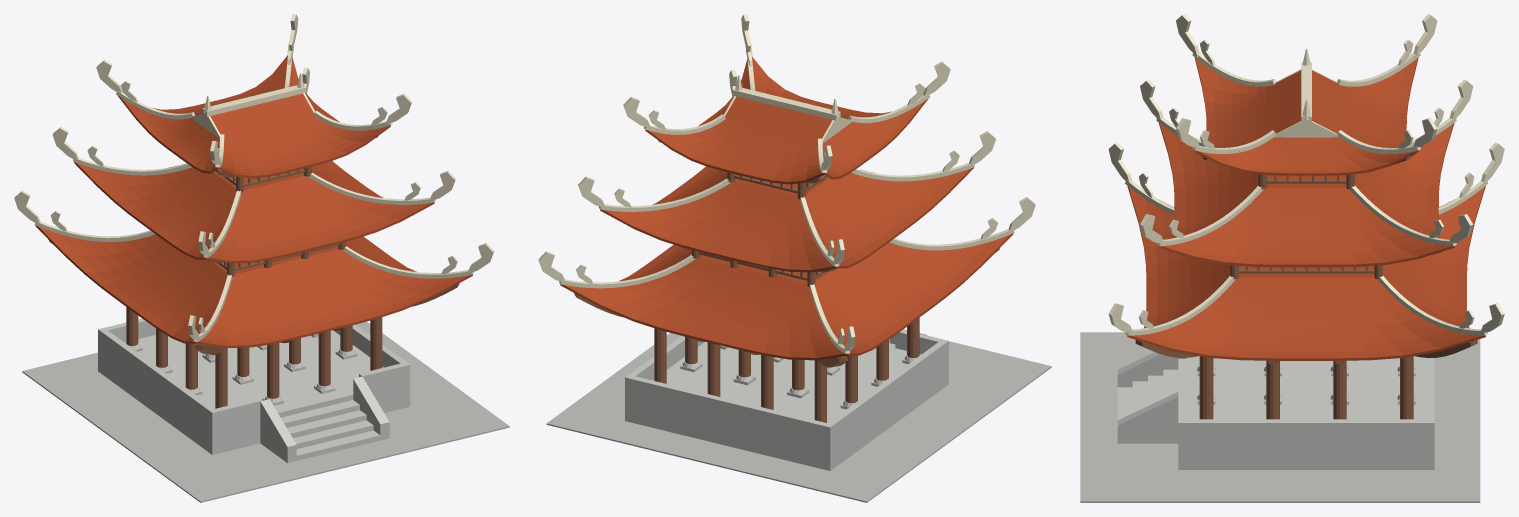
Rendered from lau_trong.glb.
3 renders of one model, left to right at view 1: azimuth 30°, elevation 25°; view 2: azimuth 150°, elevation 25°; view 3: azimuth 270°, elevation 25°, orthographic. The views are drawn at different scales.
Parts seen in each view (by area): view 1: Tang1_Mai, San, Tang2_Mai, Nen_Da, Tang3_Mai, Tuong_Thap, Tang1_Cot, Bac_Thang, Ma_Bac_Thang, Tang3_Mai_Hoi, Tang1_Suon_Mai, Tang2_Suon_Mai (+6 smaller); view 2: Tang1_Mai, Tang2_Mai, San, Nen_Da, Tang3_Mai, Tuong_Thap, Tang1_Cot, Tang3_Mai_Hoi, Tang1_Suon_Mai, Tang2_Suon_Mai, Tang3_Mui_Dao, Tang2_Mui_Dao (+4 smaller); view 3: Tang1_Mai, San, Tang2_Mai, Nen_Da, Tang3_Mai, Tuong_Thap, Ma_Bac_Thang, Tang1_Cot, Tang3_Mai_Hoi, Tang1_Suon_Mai, Tang3_Mui_Dao, Tang1_Mui_Dao (+9 smaller).
Part boxes in pixels (x1,y1,x2,y2): Tang1_Mai: (35,226,472,348); San: (22,321,509,502); Tang2_Mai: (74,161,434,263); Nen_Da: (98,330,410,454); Tang3_Mai: (118,55,390,178); Tuong_Thap: (98,318,410,428); Tang1_Cot: (126,307,382,408); Bac_Thang: (281,400,380,460); Ma_Bac_Thang: (260,376,389,463); Tang3_Mai_Hoi: (210,93,313,136); Tang1_Suon_Mai: (34,221,473,341); Tang2_Suon_Mai: (73,158,435,257); Tang1_Mai: (560,233,1013,360); Tang2_Mai: (600,166,973,272); San: (546,333,1051,502); Nen_Da: (625,341,948,470); Tang3_Mai: (645,56,928,184); Tuong_Thap: (625,329,948,444); Tang1_Cot: (654,317,919,422); Tang3_Mai_Hoi: (725,96,832,140); Tang1_Suon_Mai: (559,229,1014,353); Tang2_Suon_Mai: (599,163,974,266); Tang3_Mui_Dao: (623,14,950,170); Tang2_Mui_Dao: (578,69,995,264); Tang1_Mai: (1127,186,1485,360); San: (1080,332,1480,502); Tang2_Mai: (1158,123,1454,267); Nen_Da: (1178,356,1434,469); Tang3_Mai: (1194,57,1418,175); Tuong_Thap: (1178,358,1434,440); Ma_Bac_Thang: (1117,352,1178,443); Tang1_Cot: (1199,356,1413,419); Tang3_Mai_Hoi: (1274,70,1338,133); Tang1_Suon_Mai: (1125,180,1487,335); Tang3_Mui_Dao: (1176,14,1437,148); Tang1_Mui_Dao: (1108,142,1504,332).
Bounding box in the file's own units: 9.99 × 9.69 × 10.6.
